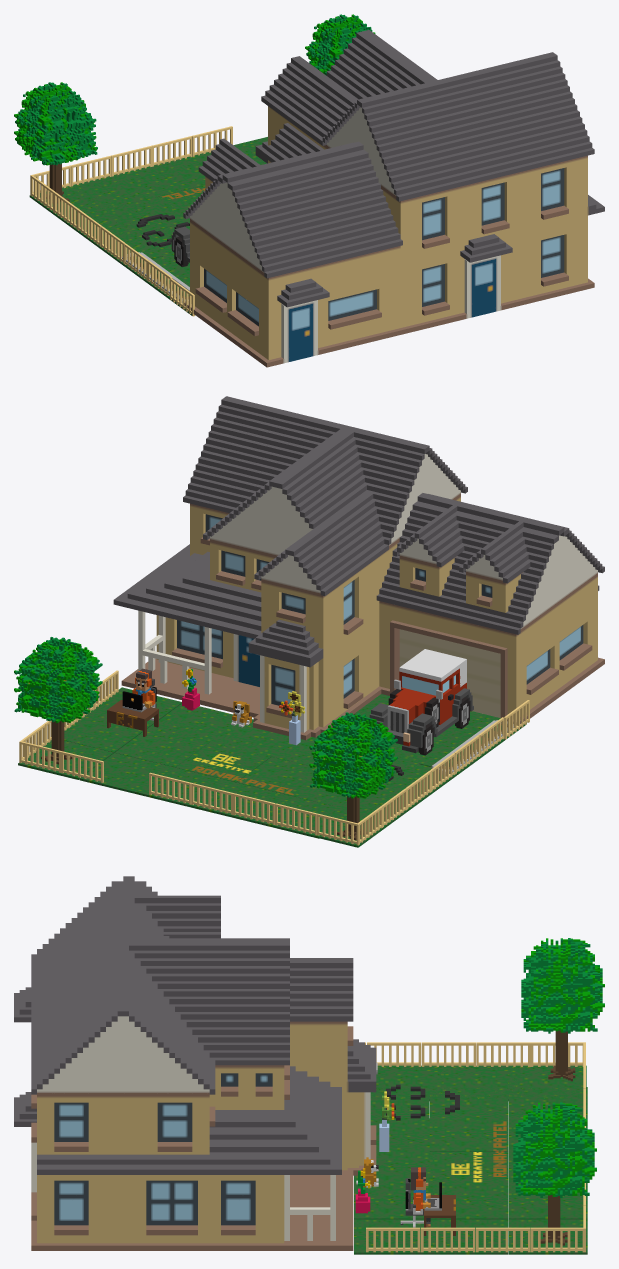
The picture shows the model from 3 angles, top to bottom: view 1: azimuth 30°, elevation 25°; view 2: azimuth 150°, elevation 25°; view 3: azimuth 270°, elevation 25°; orthographic projection. The views are drawn at different scales.
Visible parts, largest first — view 1: 1-VoxelDog, 54-VoxelDog, 53-VoxelDog, 31-VoxelDog.008, 31-VoxelDog.007, 31-VoxelDog.009, 31-VoxelDog.017, 31-VoxelDog.019, 31-VoxelDog.018, 32-VoxelDog.004, 32-VoxelDog.005, 18-VoxelDog (+13 smaller); view 2: 1-VoxelDog, Test, 53-VoxelDog, 54-VoxelDog, 17-VoxelDog, 31-VoxelDog.003, 31-VoxelDog.001, 18-VoxelDog, 31-VoxelDog, 25-VoxelDog, 31-VoxelDog.004, 31-VoxelDog.006 (+19 smaller); view 3: 1-VoxelDog, 54-VoxelDog, 53-VoxelDog, 17-VoxelDog, 18-VoxelDog, 31-VoxelDog.018, 31-VoxelDog.009, 31-VoxelDog.019, 31-VoxelDog.003, 31-VoxelDog.017, 16-VoxelDog, 25-VoxelDog (+20 smaller).
Boxes of the visible parts, bbox=[...] form: 1-VoxelDog: bbox=[183, 30, 604, 367]; 54-VoxelDog: bbox=[14, 82, 97, 203]; 53-VoxelDog: bbox=[305, 14, 375, 75]; 31-VoxelDog.008: bbox=[67, 173, 156, 210]; 31-VoxelDog.007: bbox=[125, 158, 205, 196]; 31-VoxelDog.009: bbox=[101, 196, 189, 231]; 31-VoxelDog.017: bbox=[91, 226, 173, 266]; 31-VoxelDog.019: bbox=[29, 182, 121, 220]; 31-VoxelDog.018: bbox=[58, 209, 148, 242]; 32-VoxelDog.004: bbox=[111, 146, 152, 176]; 32-VoxelDog.005: bbox=[70, 155, 111, 186]; 18-VoxelDog: bbox=[156, 185, 205, 219]; 1-VoxelDog: bbox=[113, 396, 604, 740]; Test: bbox=[369, 649, 473, 755]; 53-VoxelDog: bbox=[14, 637, 102, 764]; 54-VoxelDog: bbox=[309, 712, 397, 840]; 17-VoxelDog: bbox=[176, 743, 270, 782]; 31-VoxelDog.003: bbox=[115, 728, 208, 767]; 31-VoxelDog.001: bbox=[79, 753, 174, 794]; 18-VoxelDog: bbox=[237, 757, 316, 796]; 31-VoxelDog: bbox=[149, 703, 233, 742]; 25-VoxelDog: bbox=[64, 712, 148, 752]; 31-VoxelDog.004: bbox=[209, 719, 288, 757]; 31-VoxelDog.006: bbox=[139, 767, 234, 809]; 1-VoxelDog: bbox=[14, 876, 376, 1250]; 54-VoxelDog: bbox=[521, 938, 604, 1081]; 53-VoxelDog: bbox=[513, 1102, 596, 1245]; 17-VoxelDog: bbox=[429, 1152, 508, 1185]; 18-VoxelDog: bbox=[429, 1118, 508, 1151]; 31-VoxelDog.018: bbox=[441, 1065, 519, 1100]; 31-VoxelDog.009: bbox=[430, 1087, 508, 1120]; 31-VoxelDog.019: bbox=[508, 1065, 586, 1098]; 31-VoxelDog.003: bbox=[430, 1185, 508, 1219]; 31-VoxelDog.017: bbox=[370, 1065, 442, 1100]; 16-VoxelDog: bbox=[354, 1219, 432, 1254]; 25-VoxelDog: bbox=[429, 1219, 508, 1254].
Size of the model in its own units: 196 by 109 by 240.
57 materials, 56 textured.
